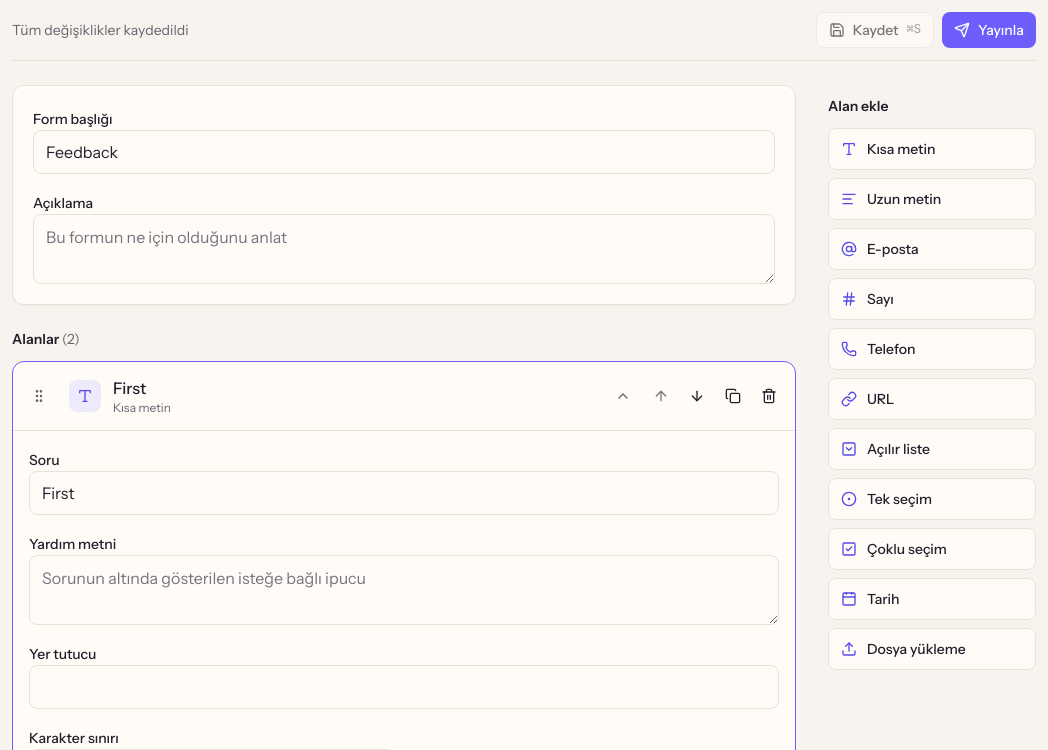
Test: FormBuilder › adds a field from the palette and marks the form as unsaved
Check: the text "Tüm değişiklikler kaydedildi" is shown, box top-left (12, 20), bottom-right (189, 40)
Click the button "Tarih" at (932, 599), box top-left (828, 578), bottom-right (1036, 620)
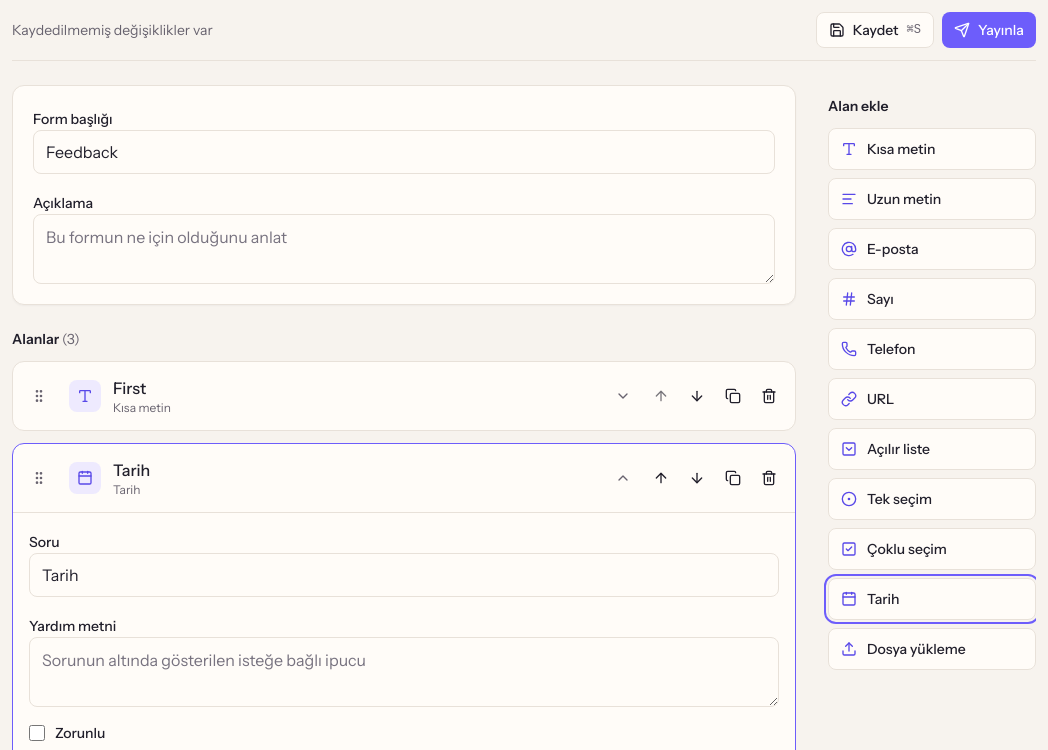
Check: the text "Kaydedilmemiş değişiklikler var" is shown, box top-left (12, 20), bottom-right (213, 40)
